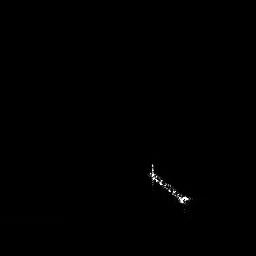ship: (147, 162, 192, 215)
